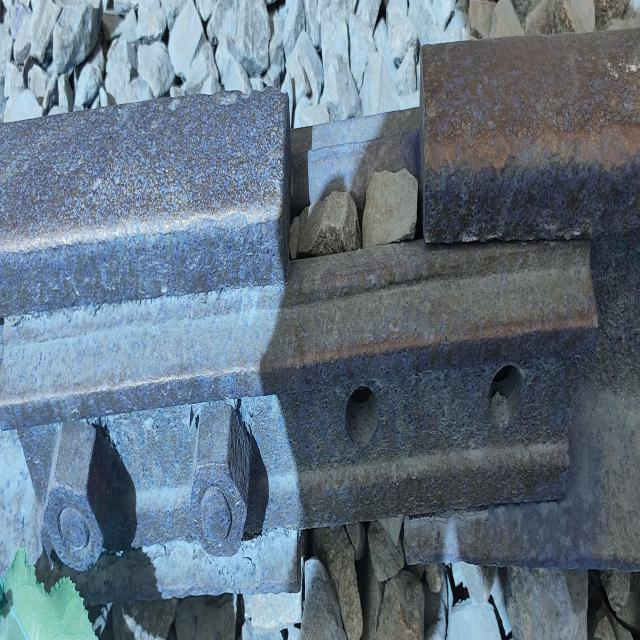railway_join_bar_defects_high: (266, 68, 462, 600)
